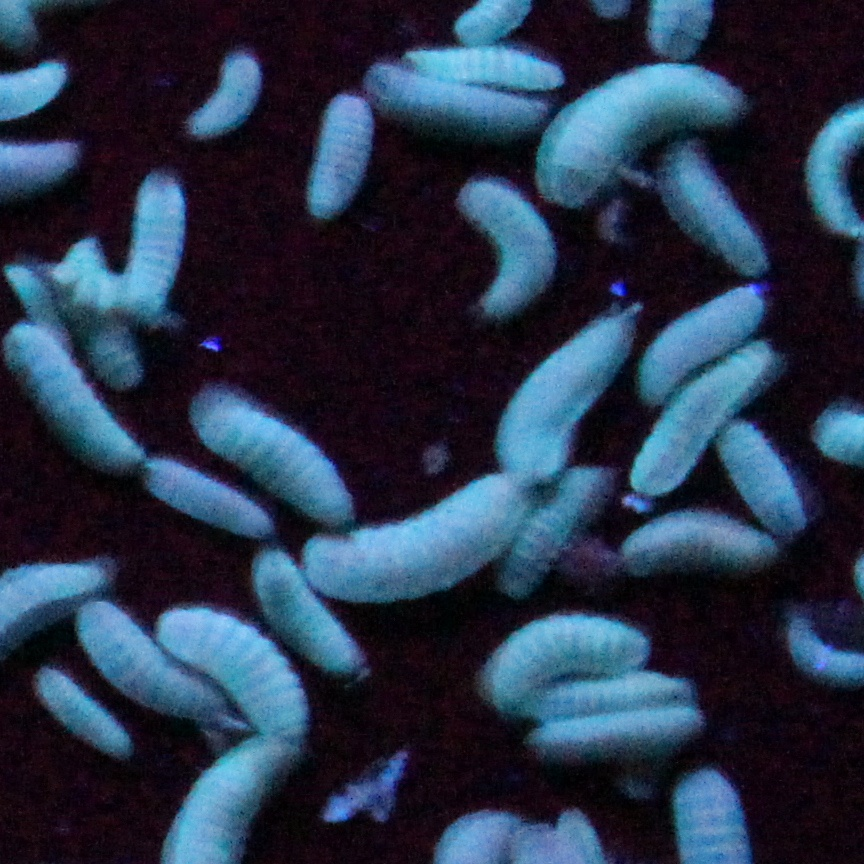larve: (539, 56, 748, 196), (296, 474, 518, 599), (616, 346, 768, 501), (80, 596, 241, 740), (498, 317, 630, 487), (155, 601, 305, 742), (189, 396, 355, 512), (477, 612, 661, 703), (636, 285, 759, 410), (455, 174, 557, 324), (250, 549, 368, 678), (355, 56, 550, 131), (500, 467, 607, 596), (673, 156, 766, 274), (723, 424, 816, 533), (309, 78, 377, 226), (121, 167, 182, 321), (150, 453, 266, 531), (30, 667, 127, 758), (609, 512, 775, 562), (411, 42, 573, 92), (186, 44, 271, 133), (532, 706, 714, 746), (536, 671, 691, 715)
